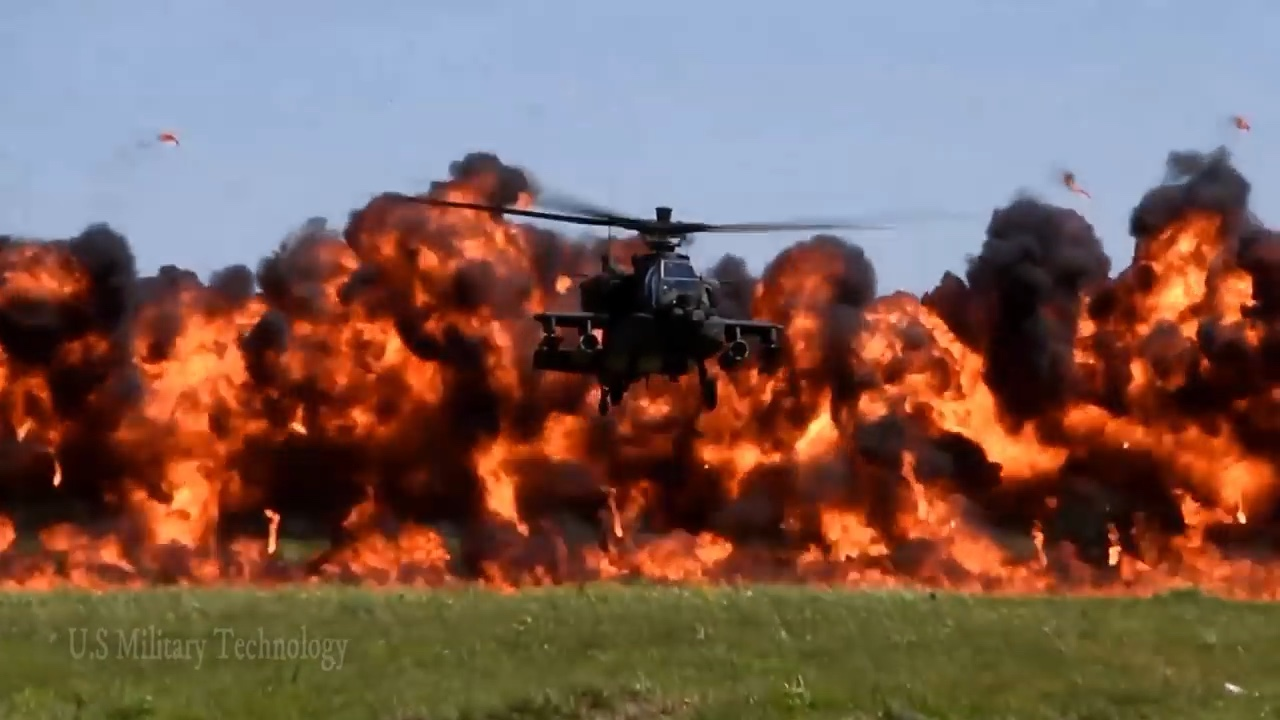ah64: (375, 193, 986, 420)
